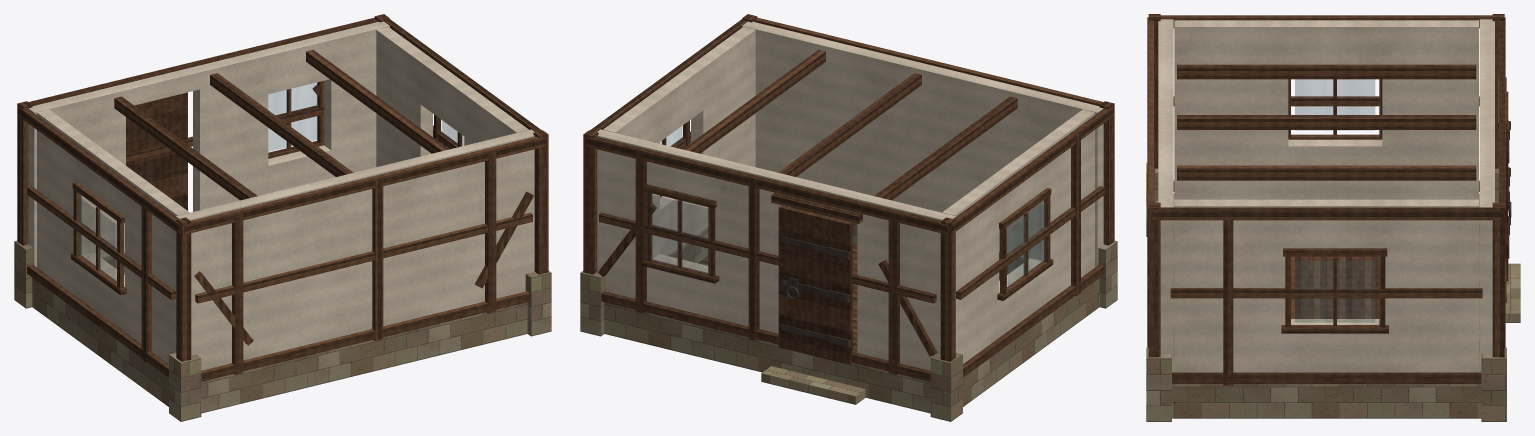
File: Storehouse_NoRoof.glb
3 renders of one model, left to right at view 1: azimuth 30°, elevation 25°; view 2: azimuth 150°, elevation 25°; view 3: azimuth 270°, elevation 25°, orthographic. The views are drawn at different scales.
Parts seen in each view (by area): view 1: Storehouse_Walls, Storehouse_Door; view 2: Storehouse_Walls, Storehouse_Door; view 3: Storehouse_Walls, Storehouse_Door.
Boxes of the visible parts, x1,y1,x2,y2 form: Storehouse_Walls: [14, 14, 551, 421]; Storehouse_Door: [126, 92, 187, 210]; Storehouse_Walls: [580, 14, 1117, 421]; Storehouse_Door: [778, 205, 852, 364]; Storehouse_Walls: [1146, 14, 1520, 421]; Storehouse_Door: [1505, 91, 1511, 281].
Bounding box in the file's own units: 5.42 × 2.75 × 4.38.
6 materials, 6 textured.
